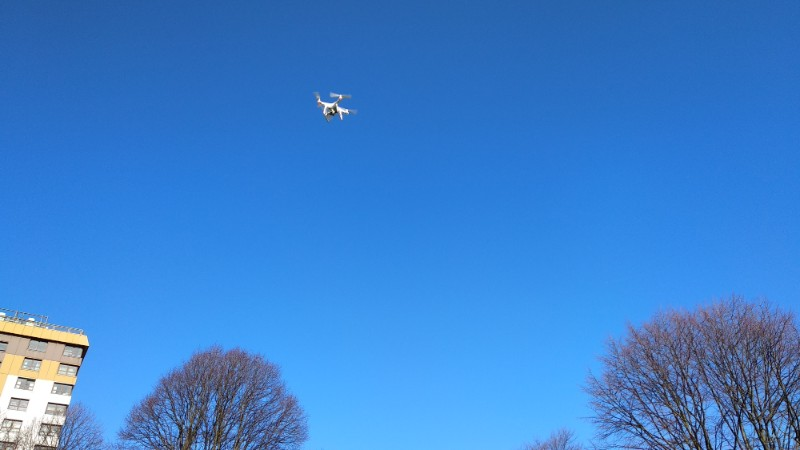drone: (312, 87, 359, 123)
